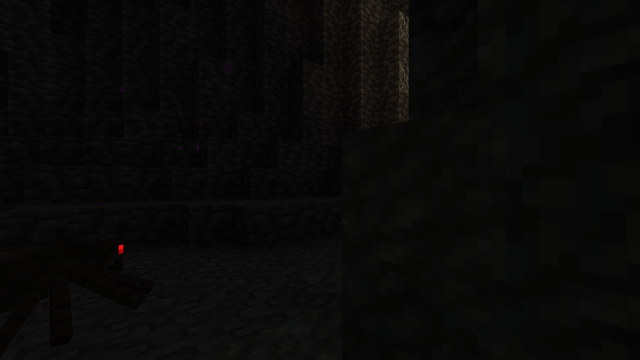araignees: (5, 225, 125, 340)
